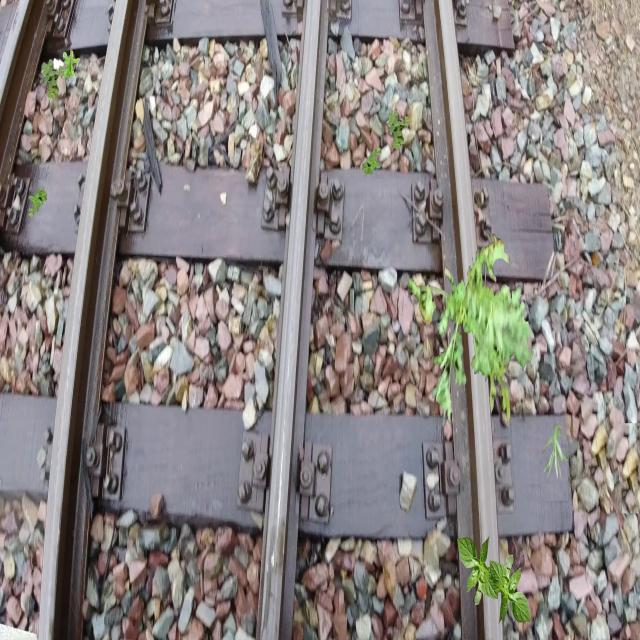Plant: (408, 231, 533, 427), (490, 554, 532, 625), (457, 535, 498, 606), (542, 424, 568, 481), (386, 109, 410, 150), (41, 59, 65, 100), (362, 146, 382, 178), (28, 186, 48, 218), (63, 49, 80, 81)
